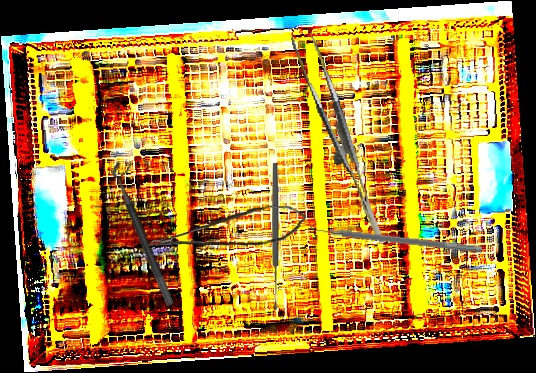Fixation Ring: (108, 156, 187, 308)
Micro Scissor: (148, 202, 309, 252)
Spatula Surgical: (306, 219, 484, 254)
Surgical Spoon: (271, 163, 279, 310)
Tissue Forceps: (290, 25, 385, 254)
